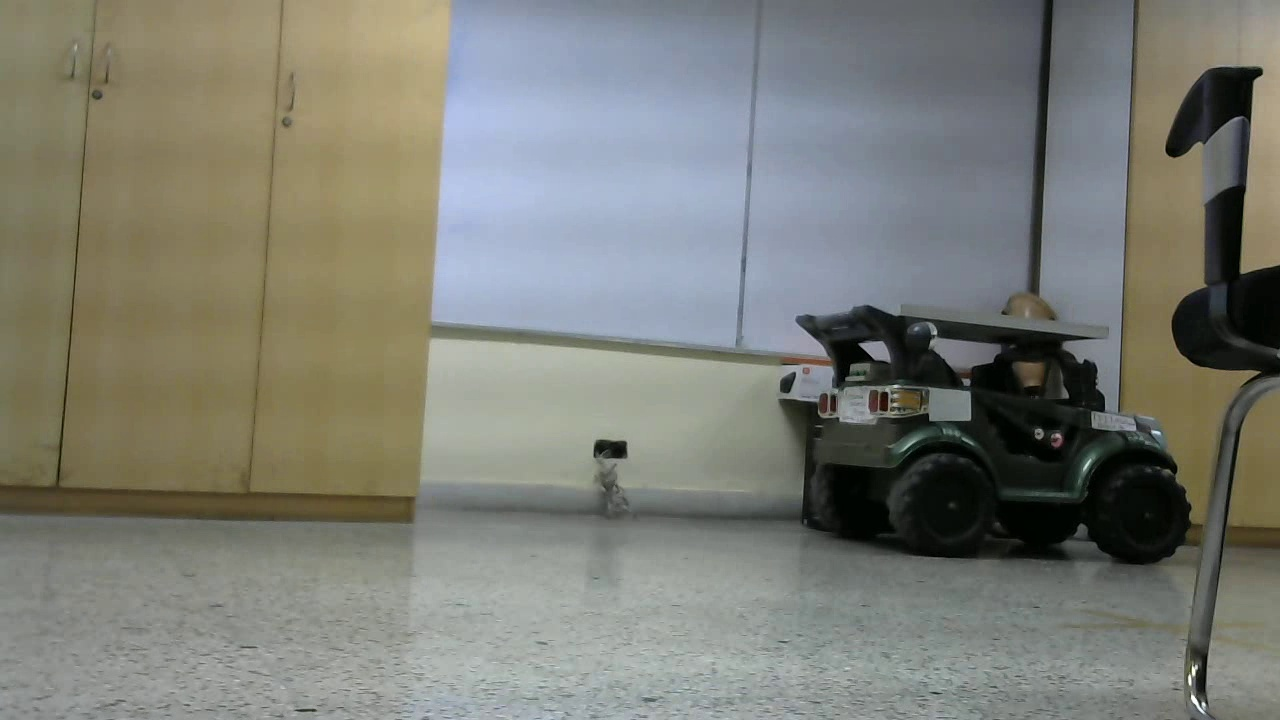chair: (543, 32, 829, 598)
